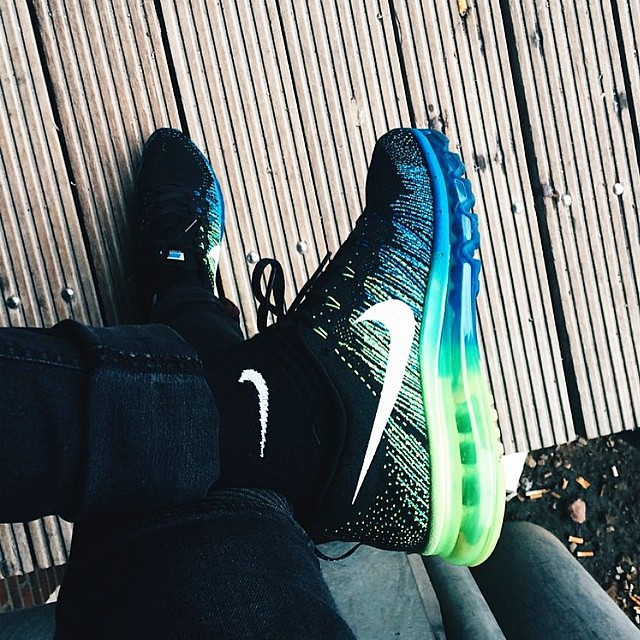sneaker: (208, 100, 537, 599), (100, 114, 242, 336)
